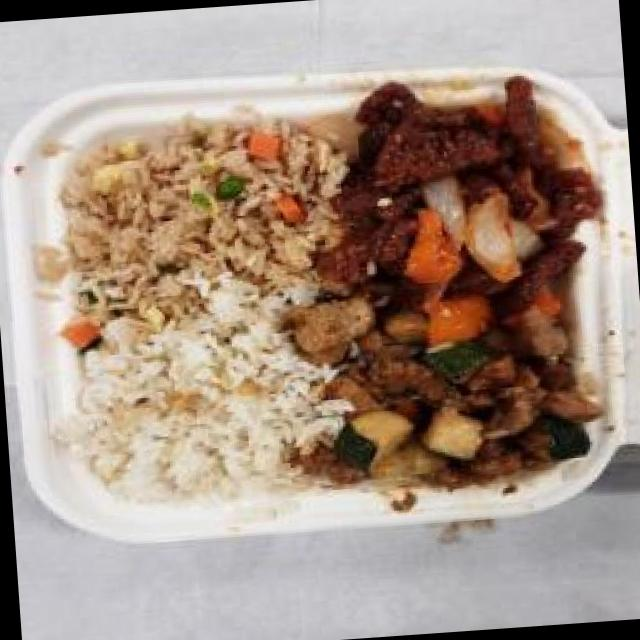Beijing Beef: (301, 64, 619, 308)
Fried Rice: (41, 104, 354, 358)
Kung Pao Chicken: (308, 283, 604, 500)
White Steamed Rice: (61, 323, 320, 508)
